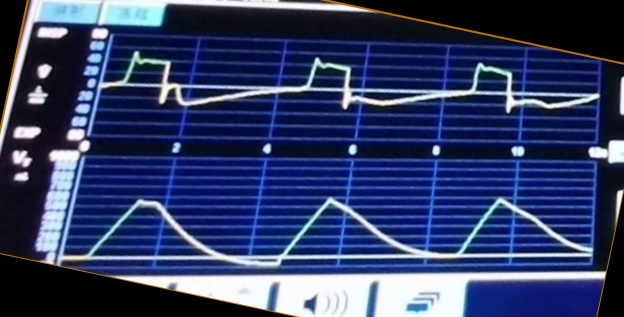Premature_cycling Flow: (108, 48, 572, 139)
Premature_cycling Volume: (77, 193, 589, 268)
